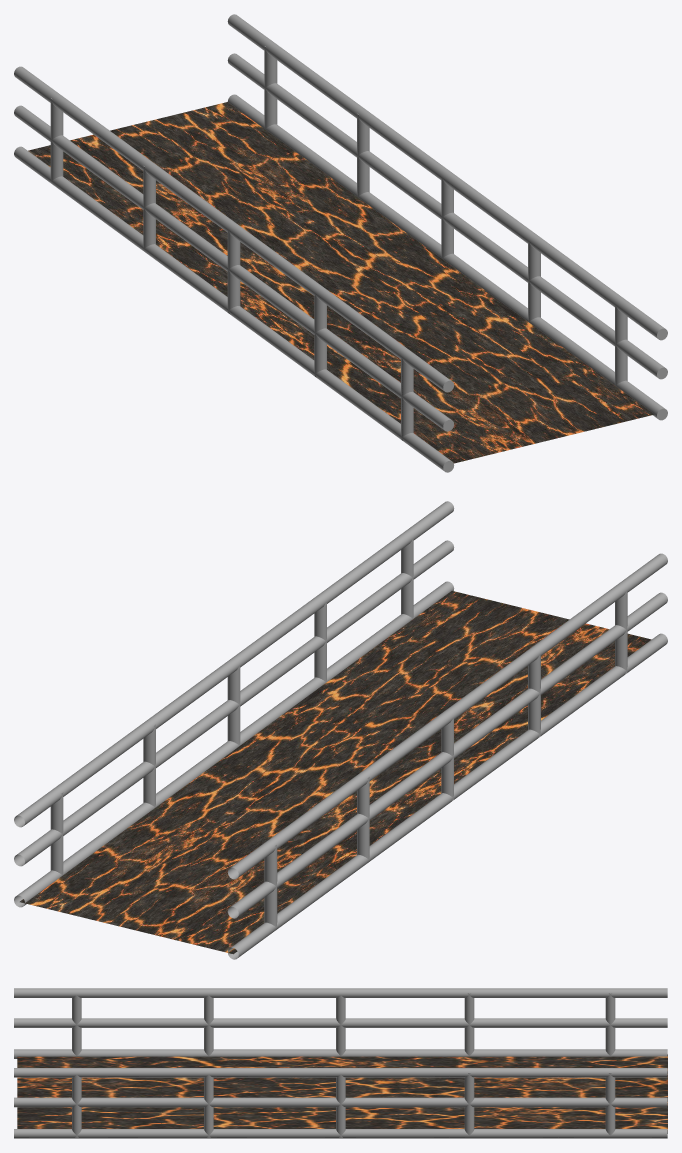
Rendered from Windowed_Hallway.fbx.
3 renders of one model, top to bottom at view 1: azimuth 30°, elevation 25°; view 2: azimuth 150°, elevation 25°; view 3: azimuth 270°, elevation 25°, orthographic. The views are drawn at different scales.
Parts seen in each view (by area): view 1: Hallway_Floor, Hallway_Tube25, Hallway_Tube24, Hallway_Tube26, Hallway_Tube, Hallway_Tube23, Hallway_Tube27, Hallway_Tube2, Hallway_Tube21, Hallway_Tube4, Hallway_Tube5, Hallway_Tube3 (+5 smaller); view 2: Hallway_Floor, Hallway_Tube25, Hallway_Tube24, Hallway_Tube, Hallway_Tube23, Hallway_Tube26, Hallway_Tube27, Hallway_Tube2, Hallway_Tube21, Hallway_Tube19, Hallway_Tube6, Hallway_Tube3 (+5 smaller); view 3: Hallway_Floor, Hallway_Tube23, Hallway_Tube24, Hallway_Tube25, Hallway_Tube27, Hallway_Tube, Hallway_Tube26, Hallway_Tube20, Hallway_Tube21, Hallway_Tube2, Hallway_Tube3, Hallway_Tube19 (+5 smaller).
Boxes of the visible parts, x1=… form: Hallway_Floor: x1=28, y1=102, x2=654, y2=463; Hallway_Tube25: x1=227, y1=14, x2=667, y2=340; Hallway_Tube24: x1=14, y1=66, x2=454, y2=392; Hallway_Tube26: x1=14, y1=146, x2=454, y2=472; Hallway_Tube: x1=14, y1=105, x2=454, y2=431; Hallway_Tube23: x1=227, y1=53, x2=667, y2=379; Hallway_Tube27: x1=227, y1=94, x2=667, y2=420; Hallway_Tube2: x1=50, y1=98, x2=63, y2=181; Hallway_Tube21: x1=264, y1=46, x2=277, y2=128; Hallway_Tube4: x1=227, y1=231, x2=240, y2=313; Hallway_Tube5: x1=314, y1=294, x2=326, y2=377; Hallway_Tube3: x1=143, y1=166, x2=155, y2=248; Hallway_Floor: x1=20, y1=591, x2=651, y2=954; Hallway_Tube25: x1=14, y1=501, x2=454, y2=827; Hallway_Tube24: x1=227, y1=553, x2=667, y2=879; Hallway_Tube: x1=227, y1=592, x2=667, y2=918; Hallway_Tube23: x1=14, y1=540, x2=454, y2=866; Hallway_Tube26: x1=227, y1=633, x2=667, y2=959; Hallway_Tube27: x1=14, y1=581, x2=454, y2=907; Hallway_Tube2: x1=264, y1=844, x2=277, y2=926; Hallway_Tube21: x1=50, y1=792, x2=63, y2=874; Hallway_Tube19: x1=227, y1=666, x2=240, y2=745; Hallway_Tube6: x1=615, y1=591, x2=627, y2=674; Hallway_Tube3: x1=357, y1=776, x2=369, y2=859; Hallway_Floor: x1=17, y1=1054, x2=667, y2=1133; Hallway_Tube23: x1=14, y1=1097, x2=667, y2=1107; Hallway_Tube24: x1=14, y1=988, x2=667, y2=997; Hallway_Tube25: x1=14, y1=1068, x2=667, y2=1077; Hallway_Tube27: x1=14, y1=1129, x2=667, y2=1138; Hallway_Tube: x1=14, y1=1018, x2=667, y2=1027; Hallway_Tube26: x1=14, y1=1049, x2=667, y2=1058; Hallway_Tube20: x1=464, y1=1072, x2=474, y2=1135; Hallway_Tube21: x1=605, y1=1072, x2=615, y2=1135; Hallway_Tube2: x1=605, y1=993, x2=615, y2=1056; Hallway_Tube3: x1=464, y1=993, x2=474, y2=1056; Hallway_Tube19: x1=336, y1=1075, x2=345, y2=1137.
Bounding box in the file's own units: 16.98 × 6.61 × 56.16.
3 materials, 2 textured.
